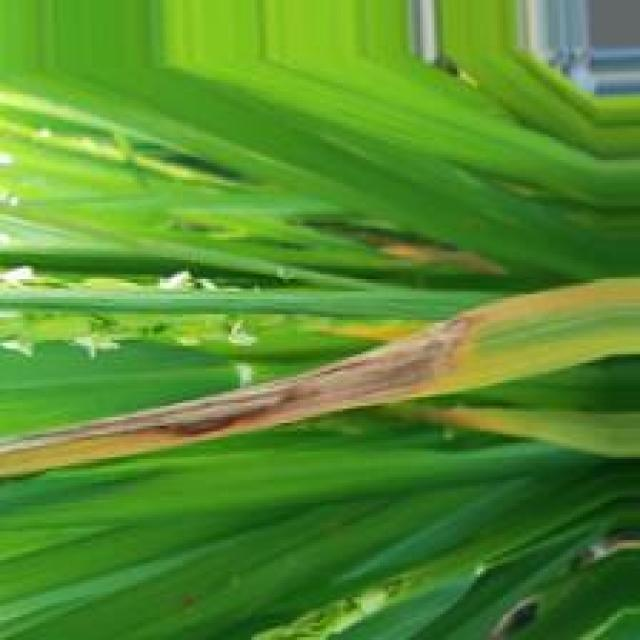Leaf_Scald: (2, 307, 479, 458)
